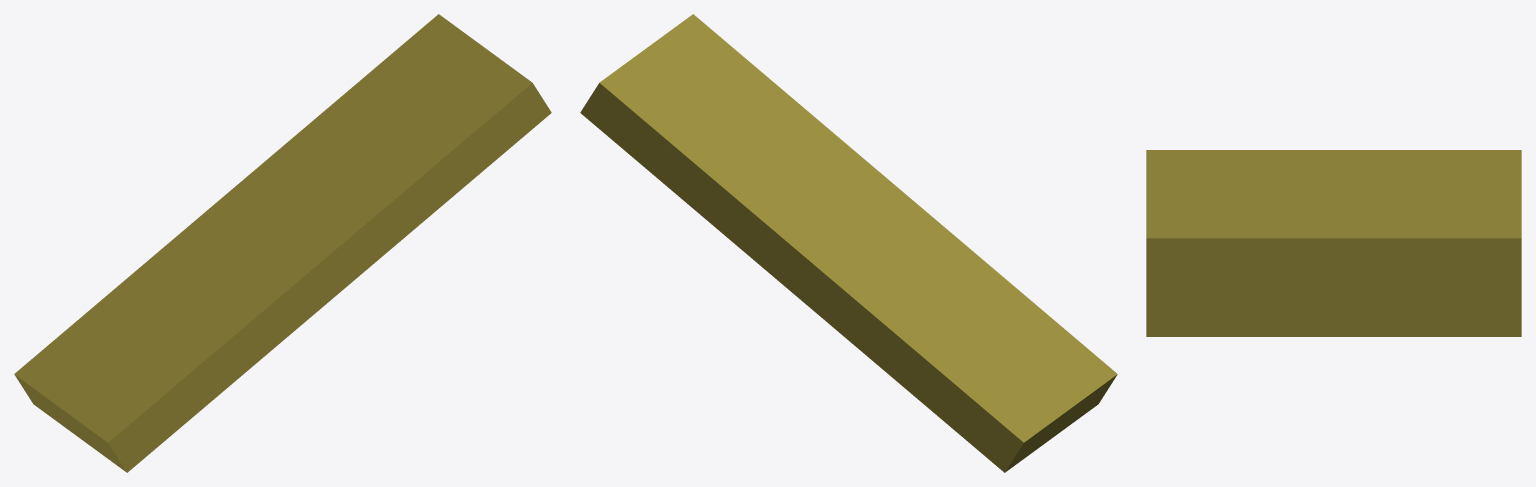
File: Debris16.fbx
3 renders of one model, left to right at view 1: azimuth 30°, elevation 25°; view 2: azimuth 150°, elevation 25°; view 3: azimuth 270°, elevation 25°, orthographic. The views are drawn at different scales.
Visible parts, largest first — view 1: front12; view 2: front12; view 3: front12.
Part boxes in pixels (x1,y1,x2,y2): front12: (14,14,551,472); front12: (580,14,1117,472); front12: (1146,150,1521,336).
Size of the model in its own units: 74.46 by 46.71 by 27.28.
